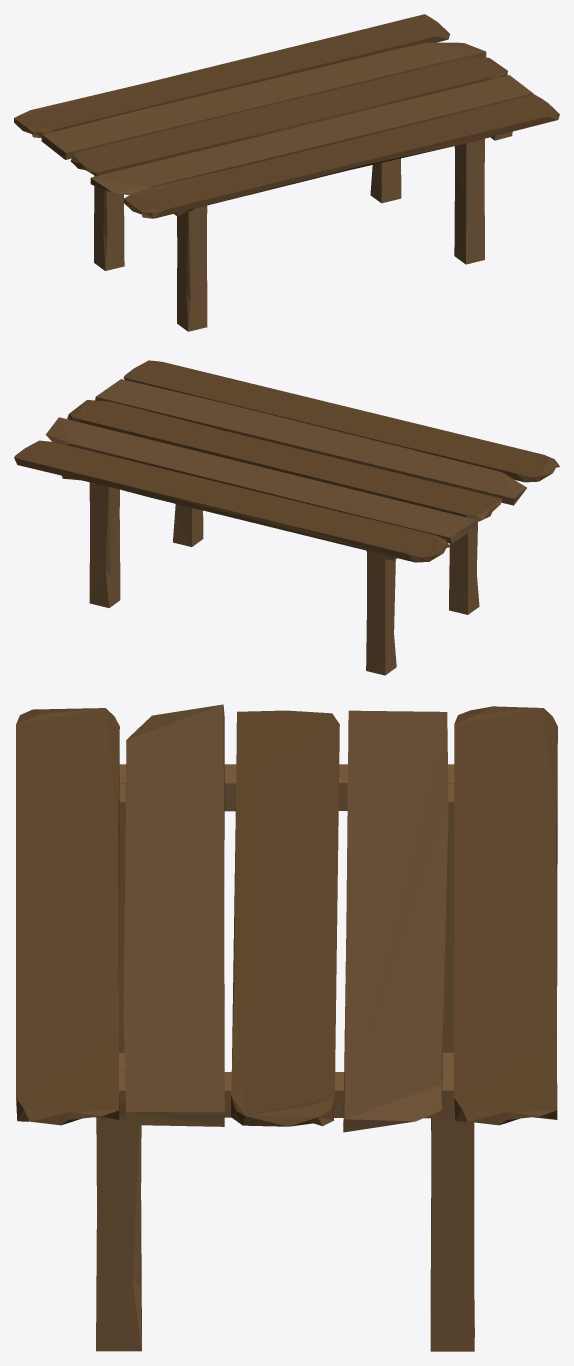
File: Mesh_Props_Table_01.obj
3 views of the same model, one above another, from view 1: azimuth 30°, elevation 25°; view 2: azimuth 150°, elevation 25°; view 3: azimuth 270°, elevation 25° (orthographic). The views are drawn at different scales.
Parts seen in each view (by area): view 1: Mesh_Props_Table_01_M_LowPolyFarm_MAIN; view 2: Mesh_Props_Table_01_M_LowPolyFarm_MAIN; view 3: Mesh_Props_Table_01_M_LowPolyFarm_MAIN.
Boxes of the visible parts, x1,y1,x2,y2 form: Mesh_Props_Table_01_M_LowPolyFarm_MAIN: (14,14,559,331); Mesh_Props_Table_01_M_LowPolyFarm_MAIN: (14,360,559,675); Mesh_Props_Table_01_M_LowPolyFarm_MAIN: (16,704,557,1351).
Bounding box in the file's own units: 2.46 × 0.819 × 1.36.
1 material, 1 textured.
